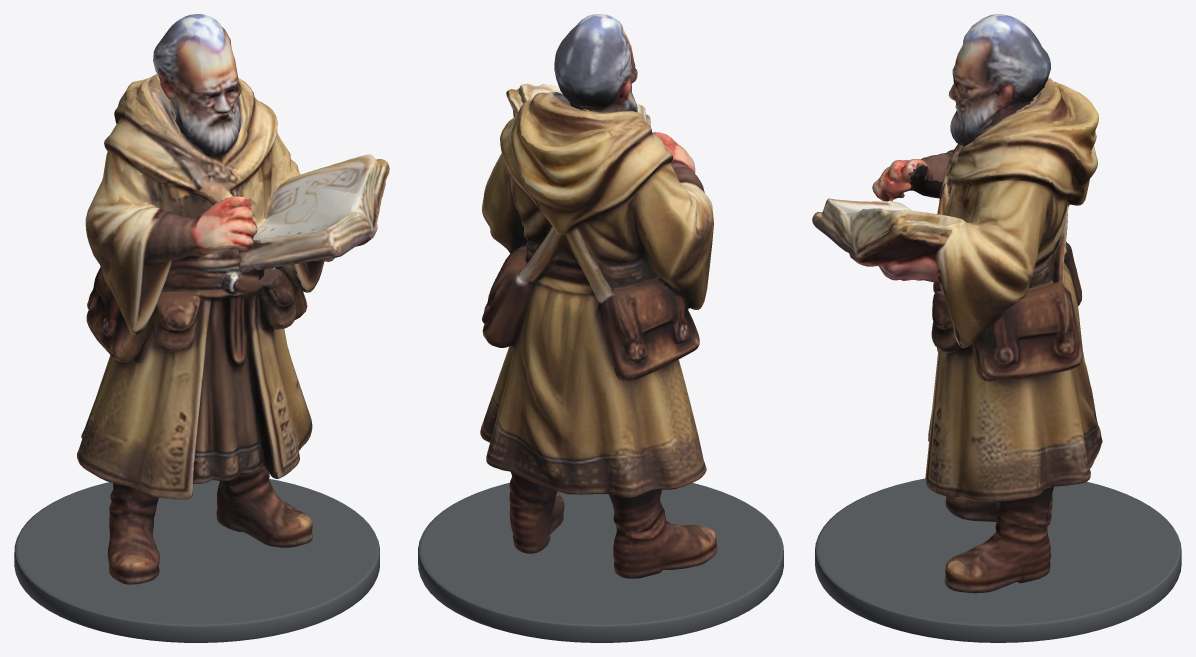
File: scholar.glb
3 renders of one model, left to right at view 1: azimuth 30°, elevation 25°; view 2: azimuth 150°, elevation 25°; view 3: azimuth 270°, elevation 25°, orthographic.
Visible parts, largest first — view 1: scholar_body, scholar_round_base; view 2: scholar_body, scholar_round_base; view 3: scholar_body, scholar_round_base.
Part boxes in pixels (bbox=[...]): scholar_body: bbox=[77, 14, 389, 584]; scholar_round_base: bbox=[14, 479, 379, 642]; scholar_body: bbox=[480, 14, 717, 578]; scholar_round_base: bbox=[418, 483, 783, 642]; scholar_body: bbox=[812, 14, 1102, 593]; scholar_round_base: bbox=[815, 478, 1181, 642].
Bounding box in the file's own units: 1 × 1.65 × 1.01.
Materials: 2 (1 with a texture image).
